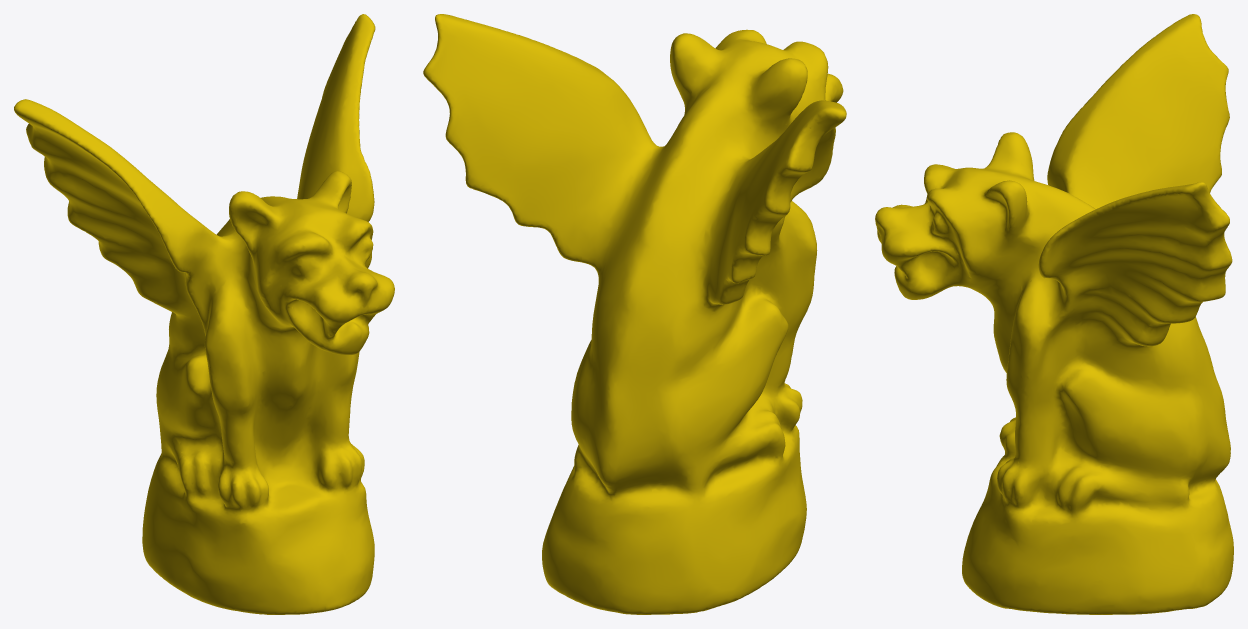
File: gargoyle.glb
3 views of the same model, side by side, from view 1: azimuth 30°, elevation 25°; view 2: azimuth 150°, elevation 25°; view 3: azimuth 270°, elevation 25° (orthographic). The views are drawn at different scales.
Bounding box in the file's own units: 0.7871 × 1 × 0.687.
